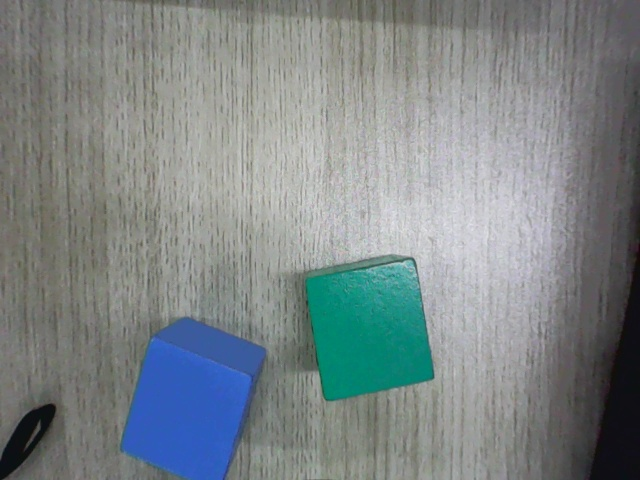upside of big cube: (119, 338, 253, 479), (305, 258, 435, 401)
